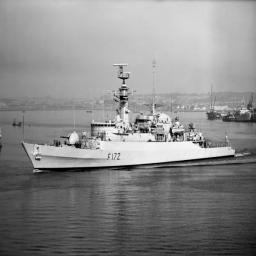Fragata: (20, 63, 238, 173)
